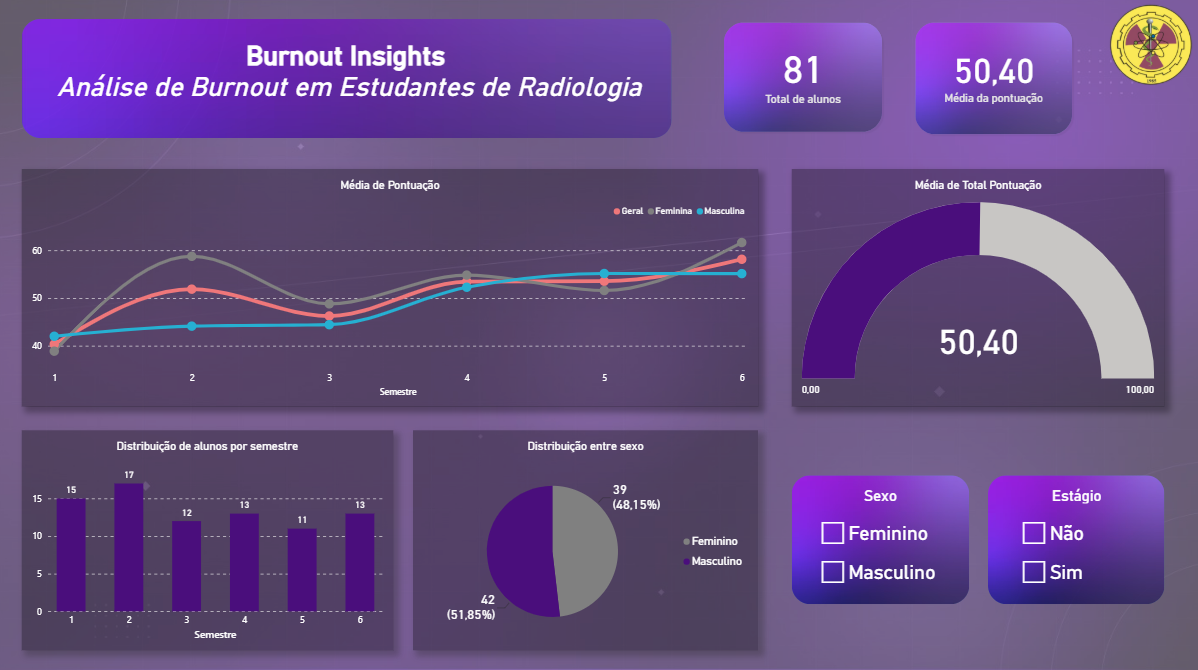

This screenshot's page, from the dashboard's own definition file:
{"tool":"powerbi","page":{"name":"Página 1","canvas":[1920,1080],"ordinal":0},"visuals":[{"type":"image","box":[1584,762,282,206],"z":0},{"type":"image","box":[1270,762,284,206],"z":1000},{"type":"image","box":[38,32,1040,190],"z":2000},{"type":"cardVisual","fields":{"Data":["Medidas.TotalAlunos"]},"box":[1156,32,264,186],"z":5000},{"type":"clusteredColumnChart","title":"Distribuição de alunos por semestre","fields":{"Category":["Respostas ao formulário 1.Indique o semestre..1"],"Y":["Medidas.TotalAlunos"]},"box":[38,690,594,352],"z":6000},{"type":"cardVisual","fields":{"Data":["Avg(Respostas ao formulário 1.Total Pontuação)"]},"box":[1462,32,262,190],"z":7000},{"type":"lineChart","title":"Média de Pontuação ","fields":{"Category":["Respostas ao formulário 1.Indique o semestre..1"],"Y":["Avg(Respostas ao formulário 1.Total Pontuação)","Medidas.MédiaFem.","Medidas.MédiaMasc."]},"box":[38,272,1178,380],"z":8000},{"type":"image","box":[1767.1,0,152.4,150.7],"z":9000},{"type":"textbox","box":[10,66,1092.9,151.5],"z":10000},{"type":"pieChart","title":"Distribuição entre sexo","fields":{"Y":["Medidas.TotalFeminino","Medidas.TotalMasculino"]},"box":[664,690,552,352],"z":11000},{"type":"gauge","fields":{"Y":["Avg(Respostas ao formulário 1.Total Pontuação)"]},"box":[1270,272,596,380],"z":12000},{"type":"slicer","title":"Sexo","fields":{"Values":["Respostas ao formulário 1.Sexo "]},"box":[1310,780,204,170],"z":13000},{"type":"slicer","title":"Estágio","fields":{"Values":["Respostas ao formulário 1.Você já ingressou em campo de estágio?"]},"box":[1632,780,188,170],"z":14000}]}

Visuals, with their boxes in screenshot pixels (x1, y1, x2, y2), scaled from the page's 1920x1080 canvas onto the 1198x670 screenshot:
image: select_region(988, 473, 1164, 601)
image: select_region(792, 473, 970, 601)
image: select_region(24, 20, 673, 138)
cardVisual - Medidas.TotalAlunos: select_region(721, 20, 886, 135)
"Distribuição de alunos por semestre" clusteredColumnChart: select_region(24, 428, 394, 646)
cardVisual - Avg(Respostas ao formulário 1.Total Pontuação): select_region(912, 20, 1076, 138)
"Média de Pontuação " lineChart: select_region(24, 169, 759, 404)
image: select_region(1103, 0, 1197, 93)
textbox: select_region(6, 41, 688, 135)
"Distribuição entre sexo" pieChart: select_region(414, 428, 759, 646)
gauge - Avg(Respostas ao formulário 1.Total Pontuação): select_region(792, 169, 1164, 404)
"Sexo" slicer: select_region(817, 484, 945, 589)
"Estágio" slicer: select_region(1018, 484, 1136, 589)
